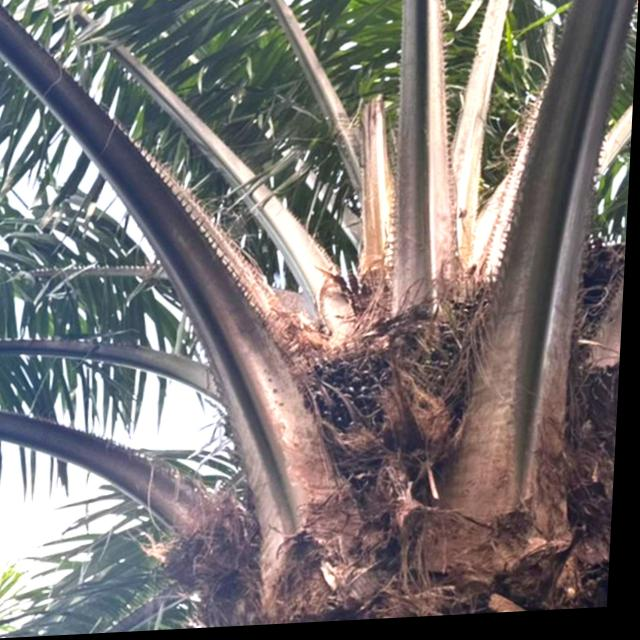unripe: (295, 350, 411, 447)
